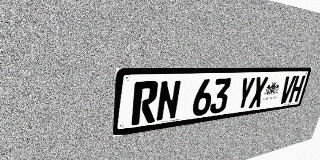3: (209, 78, 232, 114)
6: (191, 79, 215, 117)
H: (288, 75, 305, 103)
N: (155, 80, 182, 122)
R: (131, 81, 159, 125)
V: (278, 76, 296, 104)
X: (248, 77, 268, 108)
Y: (235, 77, 256, 110)
